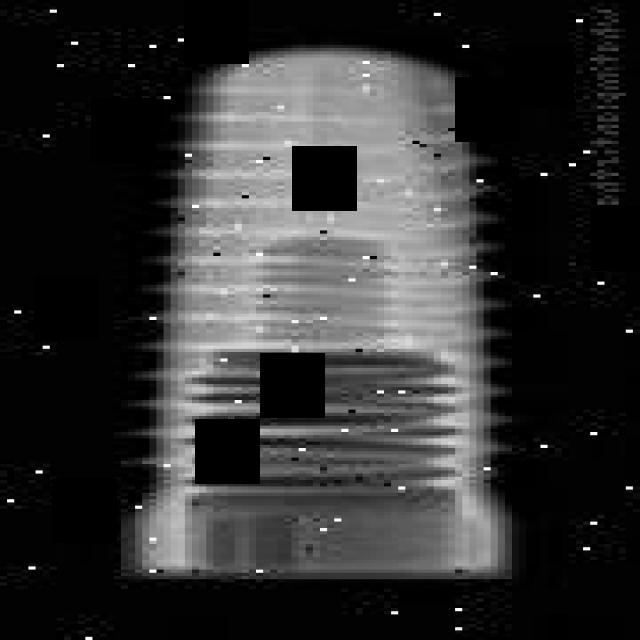Root canal obturation: (124, 37, 519, 576)
